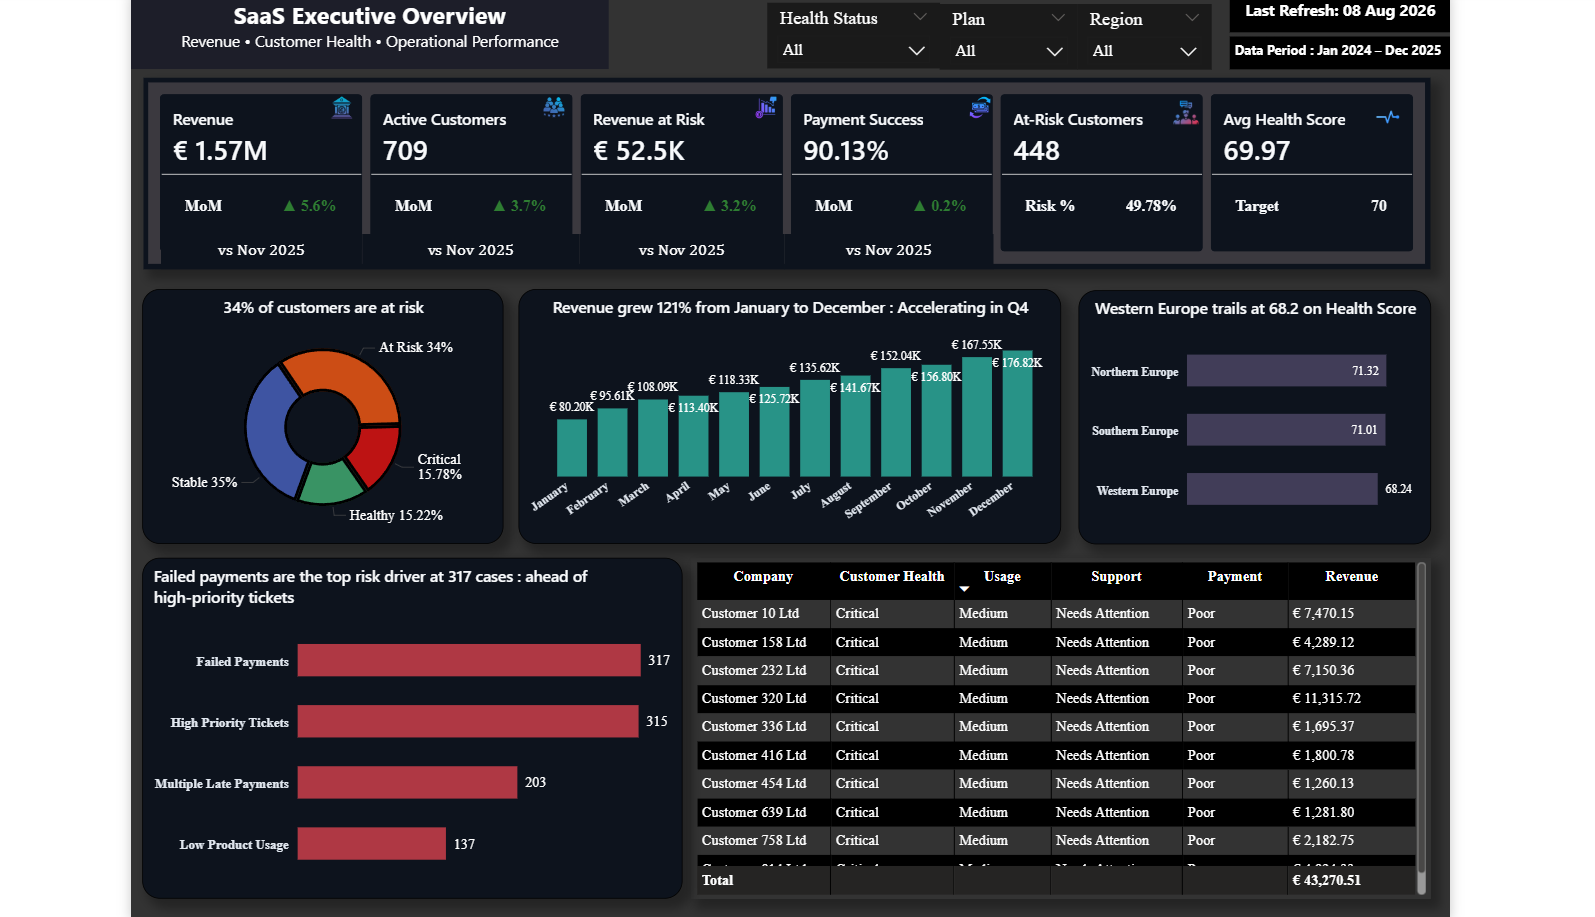

What the dashboard file says about the page in this screenshot:
{"tool":"powerbi","page":{"name":"Executive Overview","canvas":[1350,920],"ordinal":0},"visuals":[{"type":"cardVisual","fields":{"Data":["Calculations.Total Revenue","Calculations.Current Month Active Customers","Calculations.Current Month Revenue at Risk","Calculations.Current Month Payment Success %","Calculations.Customers at Risk","Calculations.Avg Health Score"]},"box":[22.3,89.2,1306.7,192],"z":0},{"type":"donutChart","title":"Customer Health Status","fields":{"Category":["Customer Health.customer_health_status"],"Y":["Calculations.Total Customers"]},"box":[22.4,302.6,386.6,211.5],"z":1000},{"type":"clusteredColumnChart","title":"Monthly Revenue Trend","fields":{"Category":["Dim Date.month_name"],"Y":["Calculations.Total Revenue"]},"box":[418.6,302.2,515.2,211.8],"z":2000},{"type":"clusteredBarChart","title":"Average Health Score by Region","fields":{"Y":["Avg(Customer Health.health_score)"],"Category":["Dim Customer.region"]},"box":[951.1,302.6,378.2,211.5],"z":3000},{"type":"tableEx","fields":{"Values":["Customer Health.company_name","Customer Health.customer_health_status","Customer Health.usage_health","Customer Health.support_health","Customer Health.payment_health","Sum(Customer Health.total_revenue)"]},"box":[572.3,528.6,756.8,376.5],"z":4000},{"type":"clusteredBarChart","title":"Top Risk Drivers","fields":{"Category":["Risk Drivers.Risk Driver"],"Y":["Calculations.Risk Driver Customers"]},"box":[24.8,528.9,533.8,376.5],"z":5000},{"type":"cardVisual","fields":{"Data":["Calculations.Previous Month Label"]},"box":[39.6,224.2,204.4,57],"z":6000},{"type":"cardVisual","fields":{"Data":["Calculations.Previous Month Label"]},"box":[252.7,224.2,205.6,57],"z":7000},{"type":"cardVisual","fields":{"Data":["Calculations.Previous Month Label"]},"box":[465.7,224.2,203.1,57],"z":8000},{"type":"cardVisual","fields":{"Data":["Calculations.Previous Month Label"]},"box":[676.3,224.2,208.1,57],"z":9000},{"type":"textbox","box":[0,0,489.1,76.8],"z":10000},{"type":"textbox","box":[1123.7,0,226.4,39.1],"z":11000},{"type":"textbox","box":[1123.7,43.1,226.4,33.7],"z":12000},{"type":"slicer","fields":{"Values":["Dim Customer.region"]},"box":[933.9,9.9,172.2,66.9],"z":13000},{"type":"slicer","fields":{"Values":["Dim Plan.plan_name"]},"box":[761.7,9.9,172.2,66.9],"z":14000},{"type":"slicer","fields":{"Values":["Customer Health.customer_health_status"]},"box":[588.3,9.9,172.2,66.9],"z":15000},{"type":"image","box":[215.6,109.1,28.3,24.3],"z":15001},{"type":"image","box":[428.5,109.1,31,24.3],"z":15002},{"type":"image","box":[630.6,109.1,39.1,24.3],"z":15003},{"type":"image","box":[1053.7,109.1,39.1,24.3],"z":15005},{"type":"image","box":[847.5,109.1,36.4,24.3],"z":15006},{"type":"image","box":[1250.4,109.1,60.6,35],"z":15007}]}

Visuals, with their boxes on the page's 1350x920 design canvas (x1, y1, x2, y2). These are canvas units, not pixel positions in the 1595x917 screenshot, which may show the page scaled, cropped or inside an application window:
cardVisual - Calculations.Total Revenue x Calculations.Current Month Active Customers: 22,89,1329,281
"Customer Health Status" donutChart: 22,303,409,514
"Monthly Revenue Trend" clusteredColumnChart: 419,302,934,514
"Average Health Score by Region" clusteredBarChart: 951,303,1329,514
tableEx - Customer Health.company_name x Customer Health.customer_health_status: 572,529,1329,905
"Top Risk Drivers" clusteredBarChart: 25,529,559,905
cardVisual - Calculations.Previous Month Label: 40,224,244,281
cardVisual - Calculations.Previous Month Label: 253,224,458,281
cardVisual - Calculations.Previous Month Label: 466,224,669,281
cardVisual - Calculations.Previous Month Label: 676,224,884,281
textbox: 0,0,489,77
textbox: 1124,0,1350,39
textbox: 1124,43,1350,77
slicer - Dim Customer.region: 934,10,1106,77
slicer - Dim Plan.plan_name: 762,10,934,77
slicer - Customer Health.customer_health_status: 588,10,760,77
image: 216,109,244,133
image: 428,109,460,133
image: 631,109,670,133
image: 1054,109,1093,133
image: 848,109,884,133
image: 1250,109,1311,144
